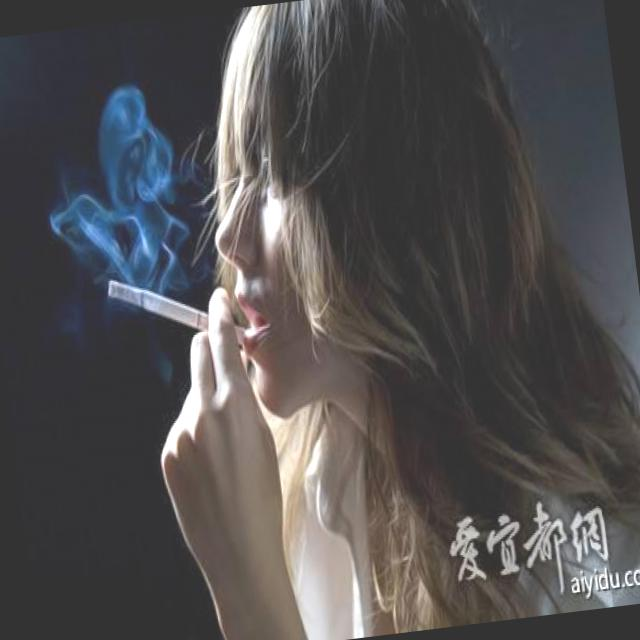smoke: (96, 228, 227, 364)
